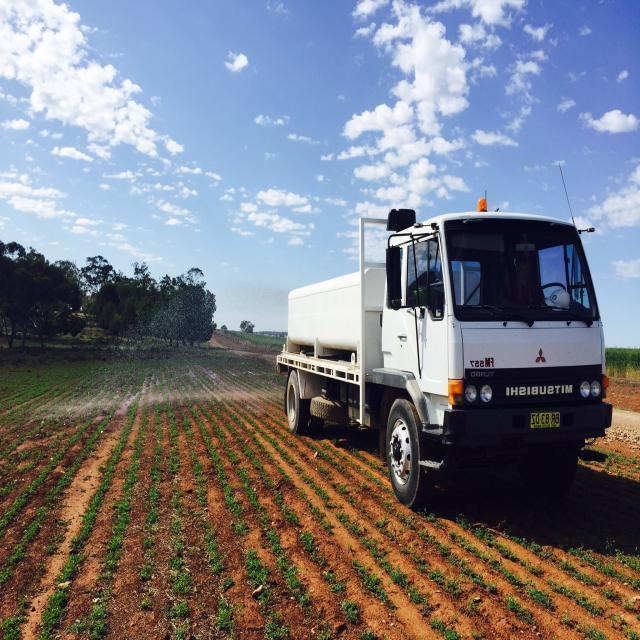truck: (274, 207, 614, 505)
